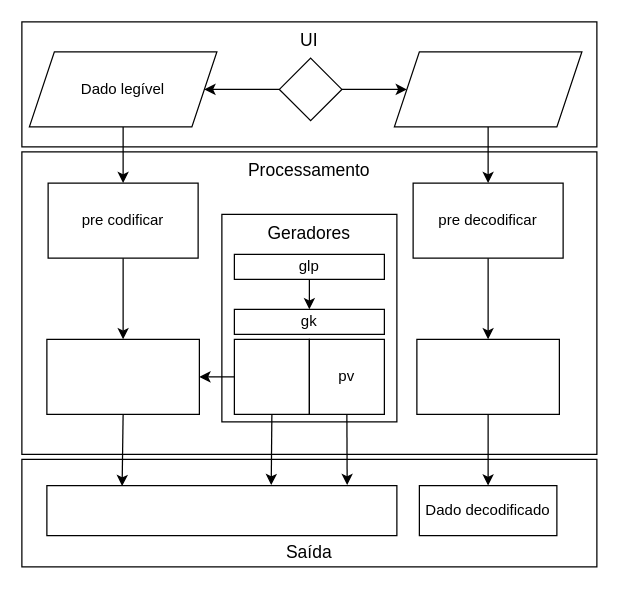
Image size: 619x589. Some labels were removed from this diagram. The shapes that lost their labels are listed below. From the top down, each one's box as (x1, y1, x2, y2) in pixels, then its label:
(393, 51, 582, 127): Dado criptografado e chaves
(46, 338, 199, 414): Criptografar
(233, 338, 309, 414): pb
(416, 338, 559, 414): Decodificar
(46, 484, 397, 536): Dado codificado + chaves
